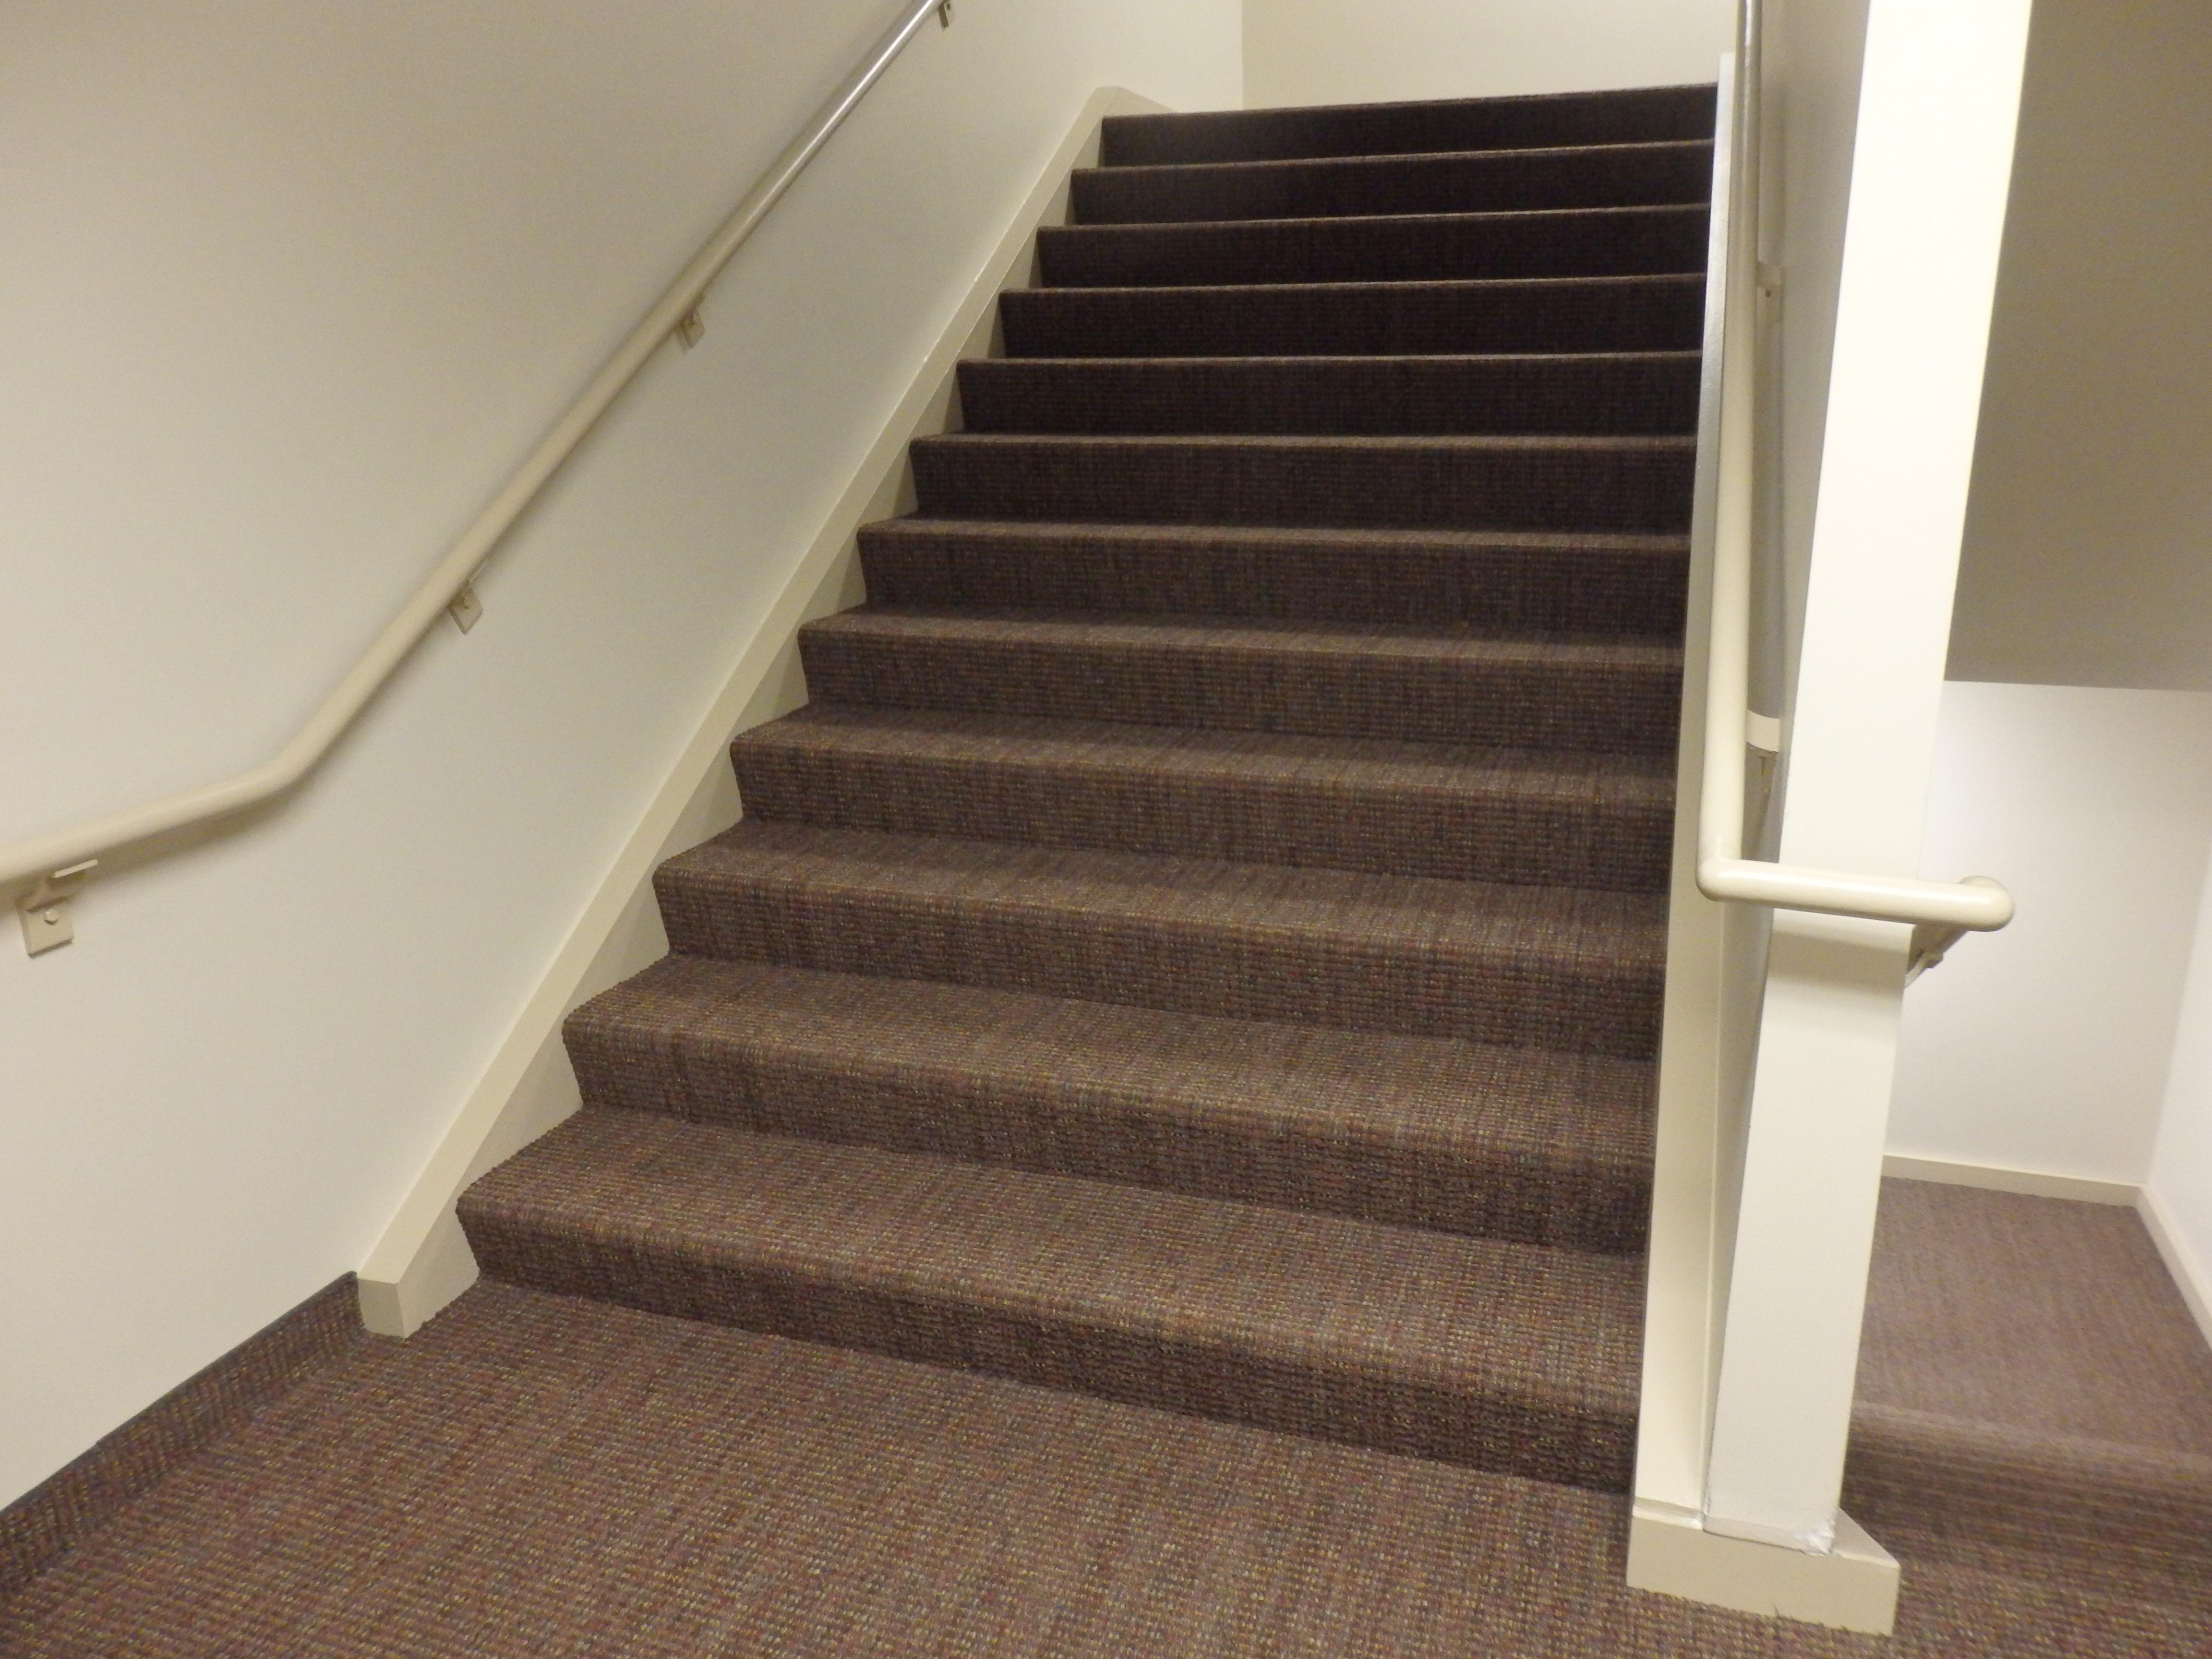stairs_up: (512, 42, 1731, 1455)
